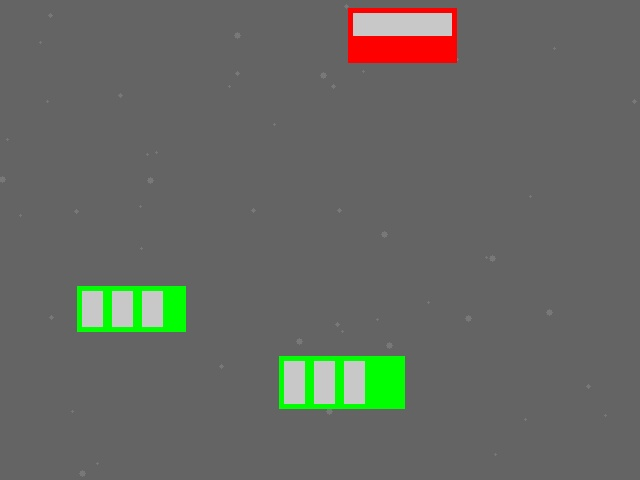bus: (279, 356, 404, 408), (77, 286, 185, 331)
car: (348, 8, 456, 62)
